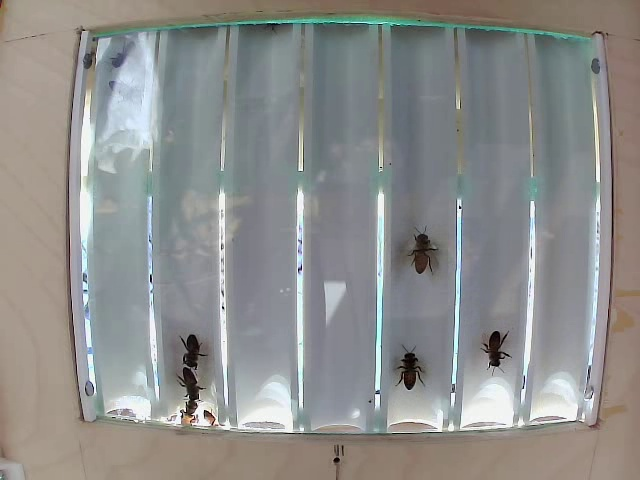bee: (403, 226, 443, 280), (387, 351, 433, 392), (484, 322, 525, 366), (163, 364, 207, 402), (171, 330, 211, 368)
